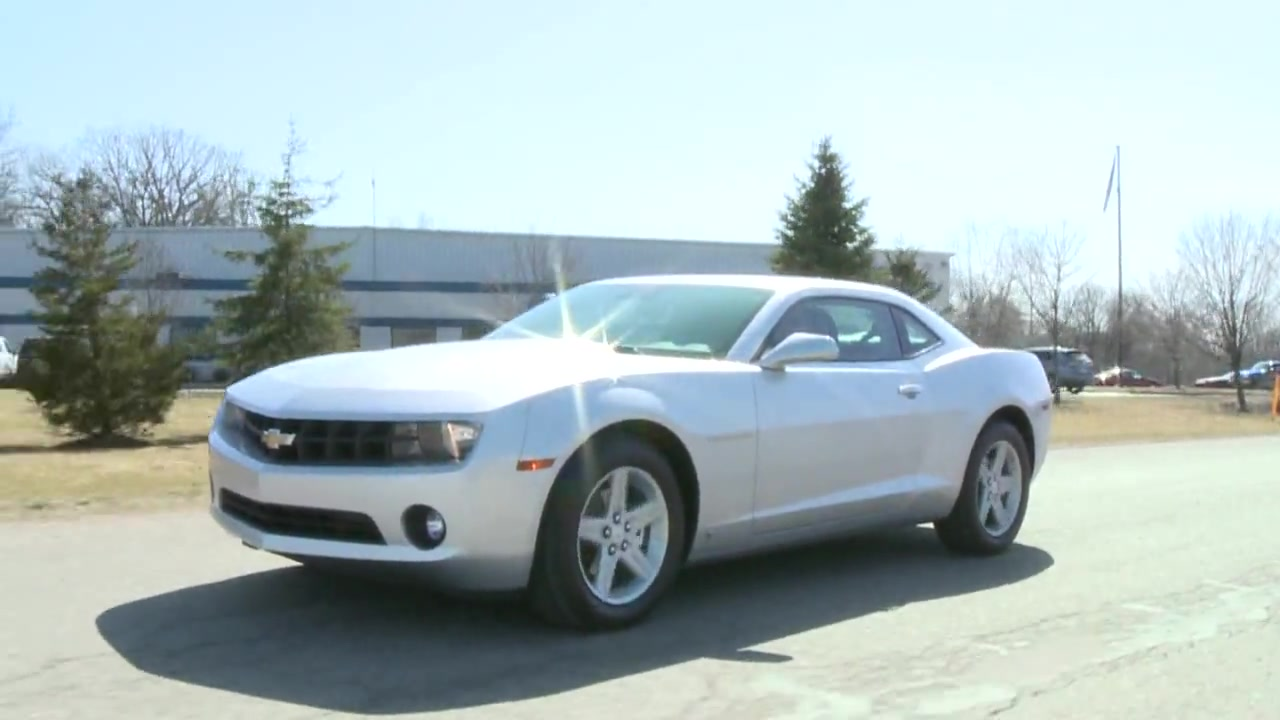car: (204, 270, 1059, 636)
